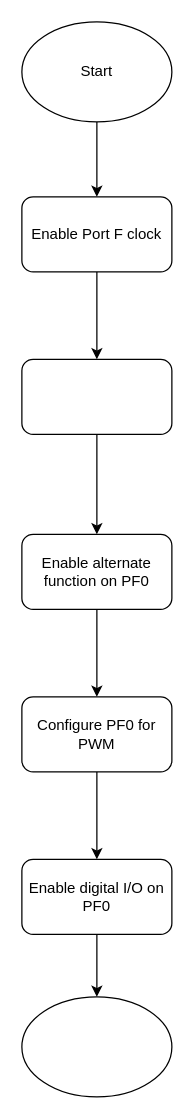
Image size: 194x1119. Some labels were removed from this diagram. Here are the shapes that lost their labels. From the top down, the box of each, then its label:
(21, 358, 172, 434): Set PF0 as output
(21, 996, 172, 1097): Stop
